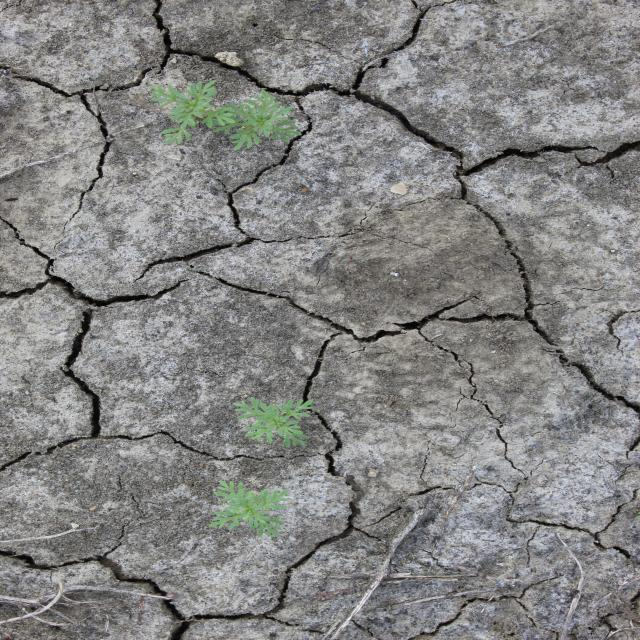Ragweed: (144, 78, 238, 146), (205, 88, 304, 152), (207, 480, 292, 540), (230, 394, 316, 449)
